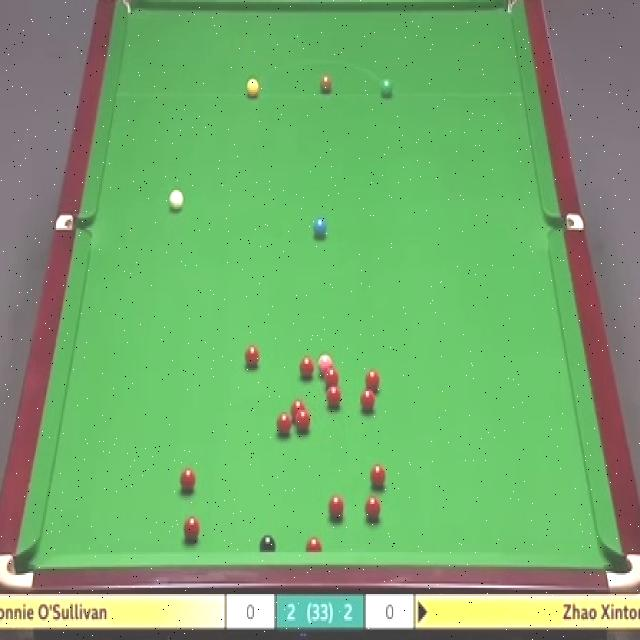black-ball: (258, 531, 276, 556)
blue-ball: (314, 218, 327, 238)
brown-ball: (319, 76, 332, 96)
green-ball: (379, 77, 394, 99)
pink-ball: (317, 351, 333, 375)
red-ball: (368, 462, 387, 490), (364, 494, 382, 523), (328, 492, 345, 520), (243, 343, 260, 370), (179, 467, 197, 492), (183, 514, 200, 540), (326, 384, 342, 410), (298, 354, 314, 380), (360, 388, 376, 413), (276, 412, 292, 436), (365, 368, 381, 390), (296, 407, 310, 432), (305, 536, 322, 553), (324, 368, 339, 387), (291, 399, 305, 417)
white-ball: (168, 186, 185, 213)
yellow-ball: (246, 75, 259, 98)
